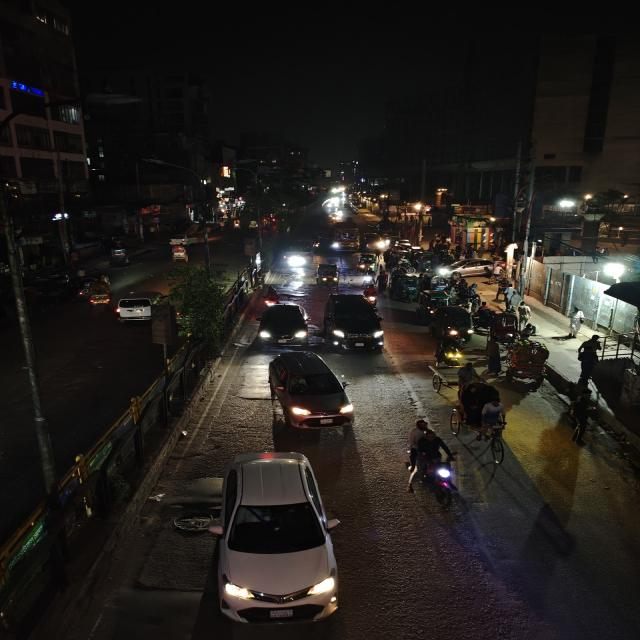bus: (330, 222, 360, 254)
car: (210, 448, 341, 634), (265, 348, 357, 435), (320, 291, 388, 354), (255, 302, 311, 347), (114, 290, 164, 324)
cng: (433, 305, 475, 345), (73, 272, 113, 306), (416, 288, 451, 318), (395, 274, 421, 302), (314, 262, 339, 286), (107, 252, 136, 270), (356, 251, 380, 272)
motorcycle: (401, 418, 467, 508), (434, 335, 465, 367), (362, 285, 380, 305)
pedestrian: (566, 306, 586, 338), (516, 302, 533, 326)
pickup_van: (280, 239, 312, 269)
rickshaw: (451, 379, 512, 457), (504, 341, 554, 396), (167, 241, 191, 263)
